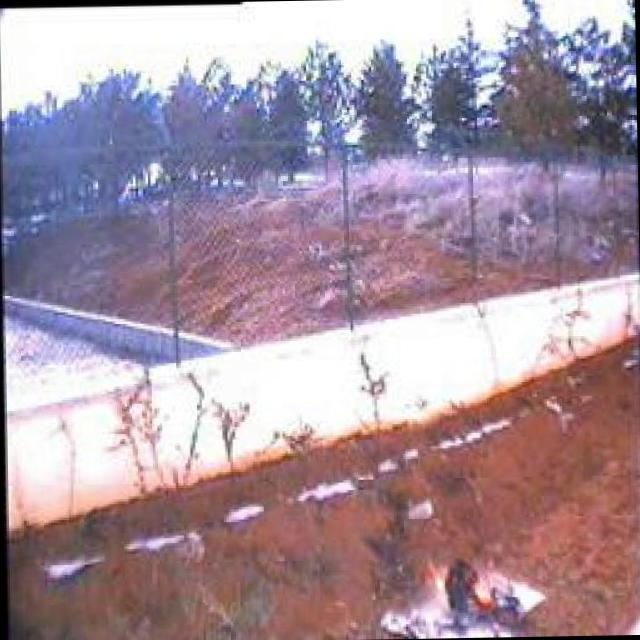Fire: (424, 554, 532, 634)
